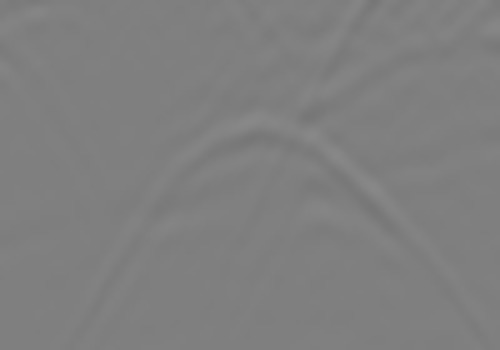hyperbola: (82, 109, 459, 330)
